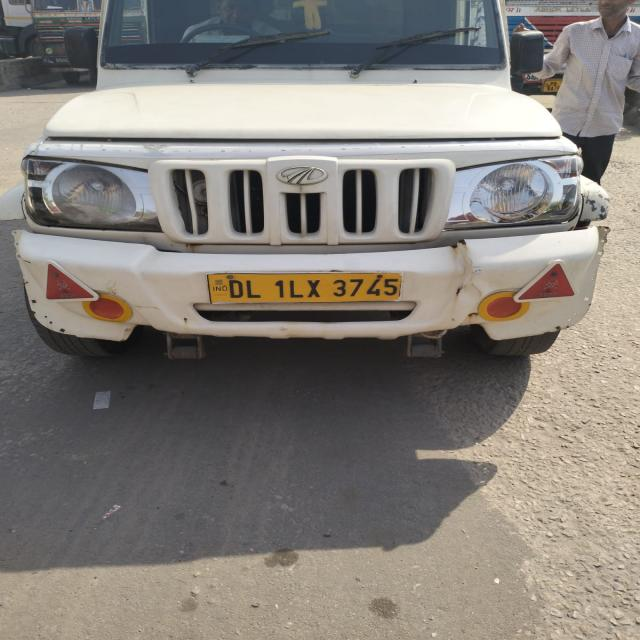License-plate: (201, 272, 413, 306)
